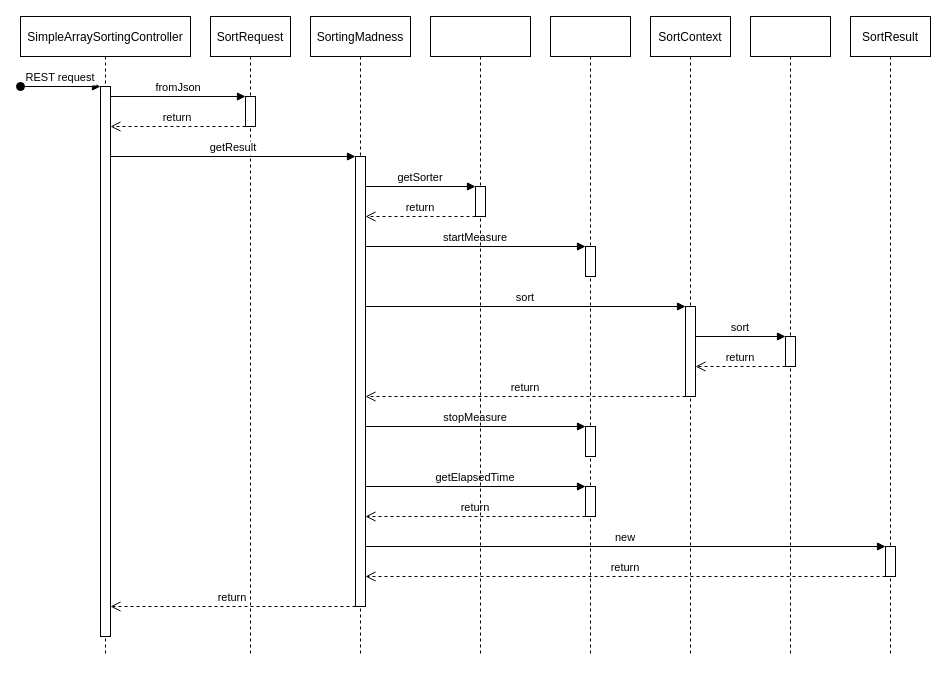
Image size: 947x673. Some labels were removed from this diagram. Here are the shapes that lost their labels. From the top down, the box of each, then its label:
(430, 16, 530, 656): SortingWrapper
(550, 16, 630, 656): Timer
(750, 16, 830, 656): SortStrategy
